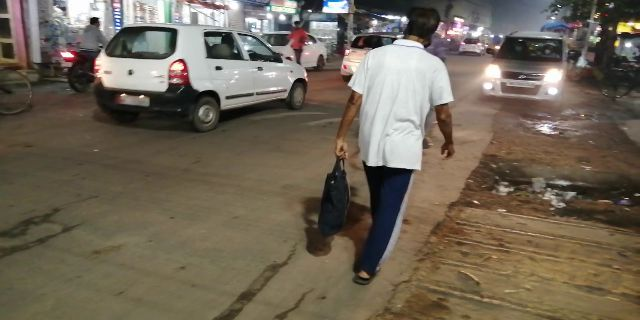Car: (94, 22, 309, 132), (483, 29, 573, 107)
